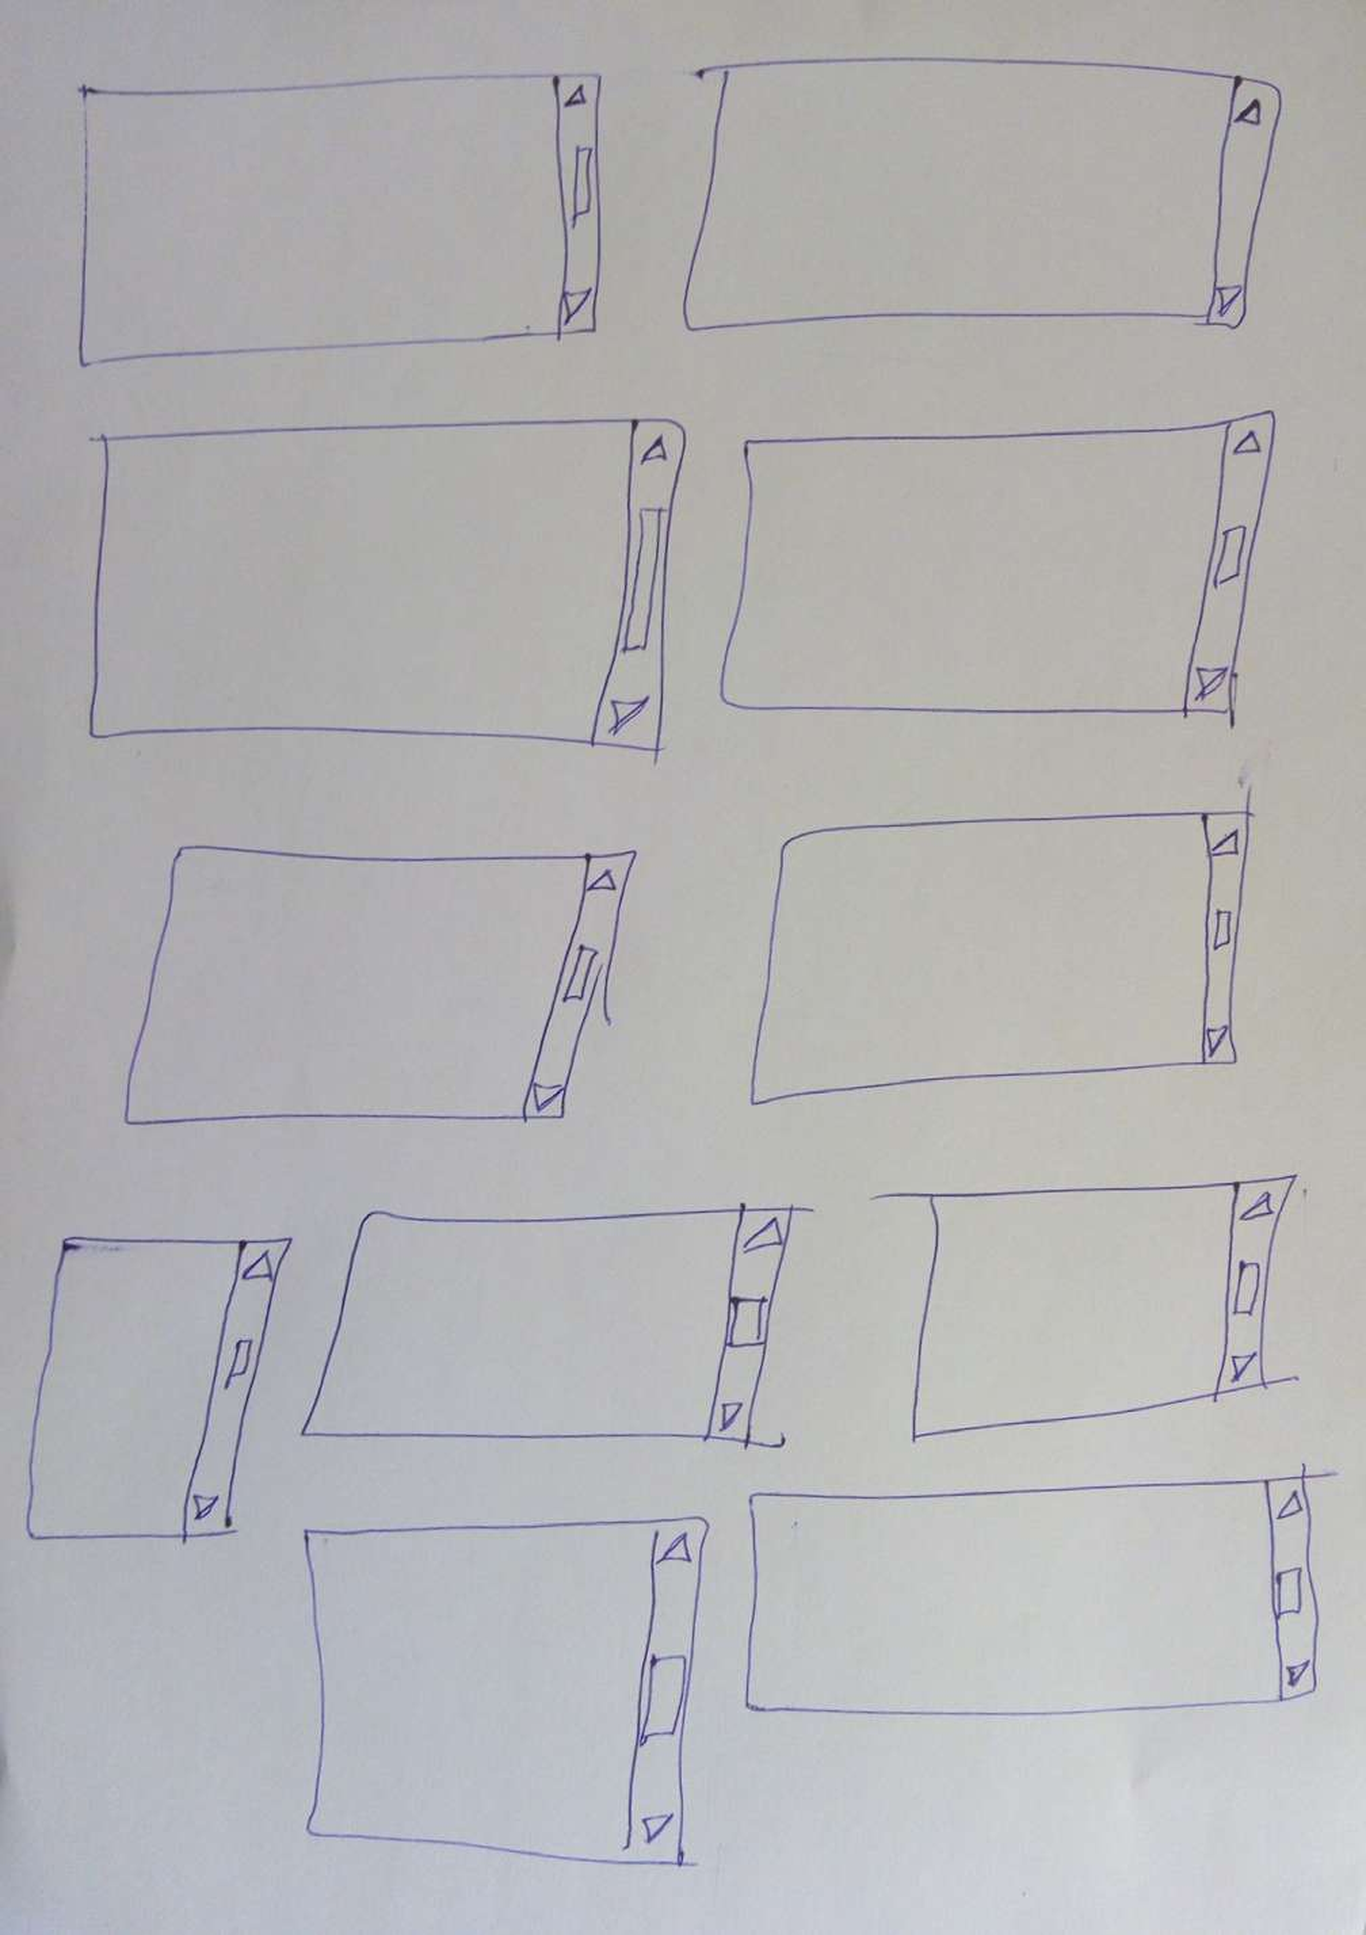Textarea: (89, 418, 686, 770), (720, 409, 1276, 729), (667, 58, 1282, 333), (750, 778, 1261, 1106), (78, 72, 602, 367), (745, 1463, 1339, 1716), (124, 846, 637, 1125), (305, 1517, 710, 1867), (302, 1203, 815, 1450), (869, 1174, 1299, 1441), (27, 1236, 293, 1543)
